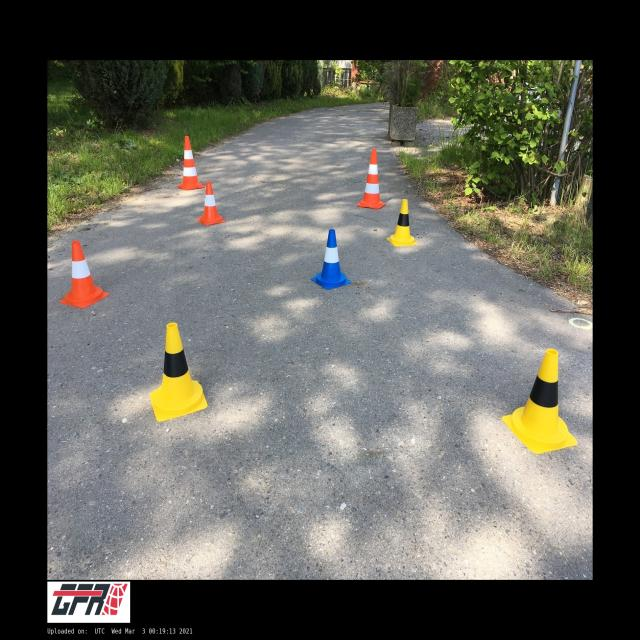blue_cone: (310, 229, 352, 289)
large_orange_cone: (357, 148, 386, 209), (177, 136, 205, 190)
orange_cone: (60, 241, 110, 308), (197, 182, 226, 226)
yellow_cone: (502, 348, 577, 454), (150, 322, 208, 422), (387, 199, 418, 246)
